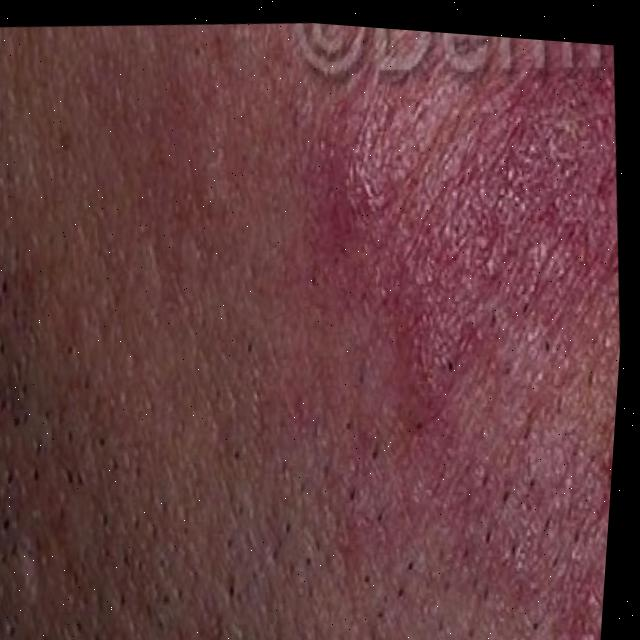Rosacea: (238, 52, 638, 640)
